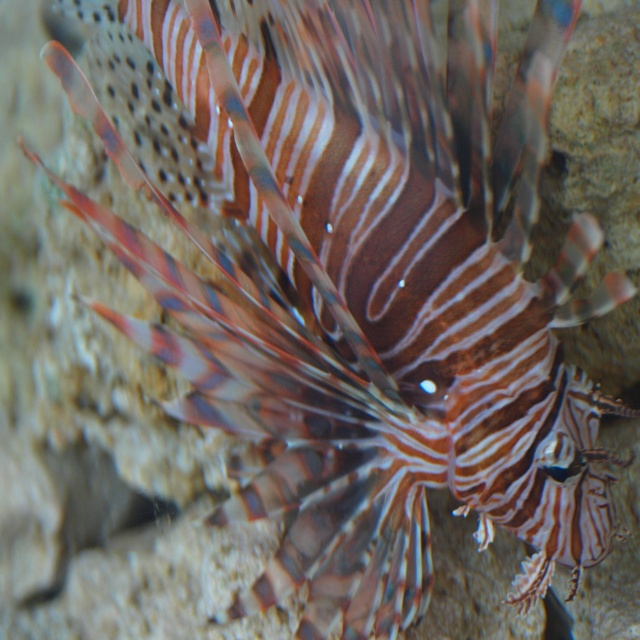Fish: (18, 1, 639, 640)
